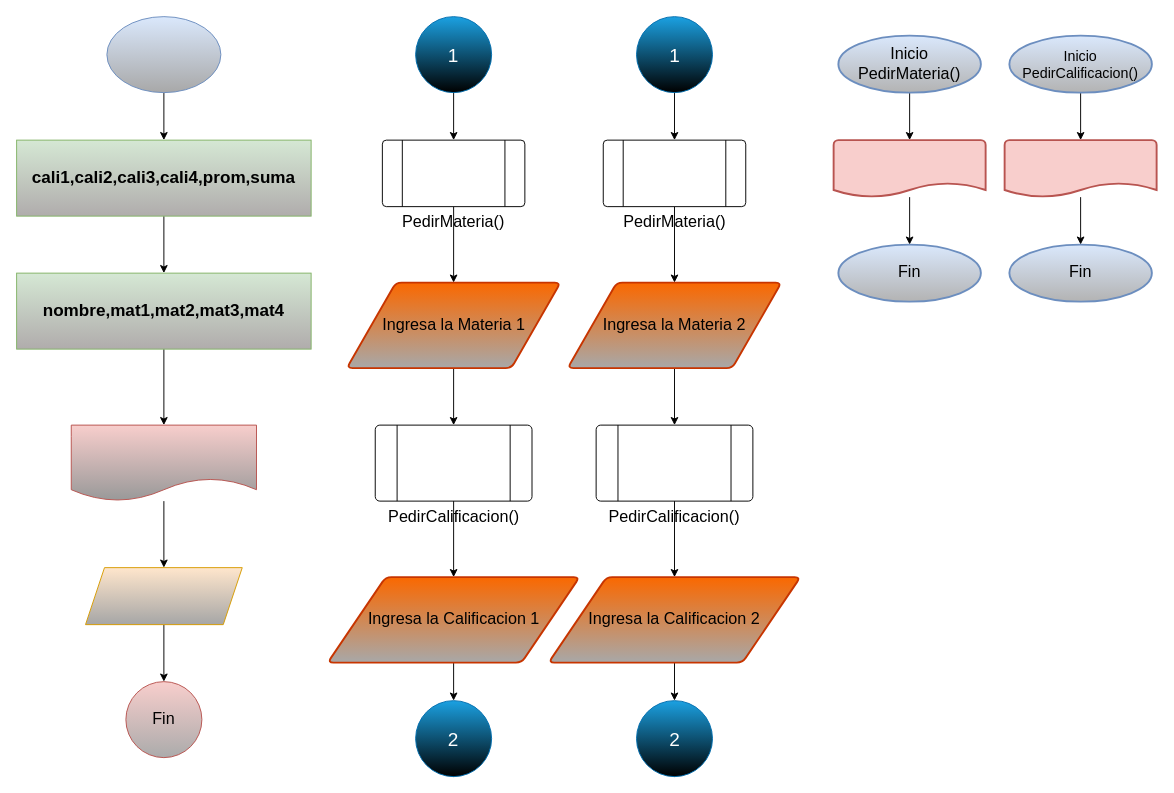
Image size: 1174x793. Some labels were removed from this diagram. Here are the shapes that lost their labels. From the top down, the box of each, then its label:
(106, 16, 221, 93): Inicio
(832, 139, 986, 198): "Ingresa la Materia"
(1003, 139, 1157, 198): "Ingresa la Calificacion"
(70, 424, 256, 501): "Solicitar nombre del alumno"
(85, 567, 242, 625): Nombre
